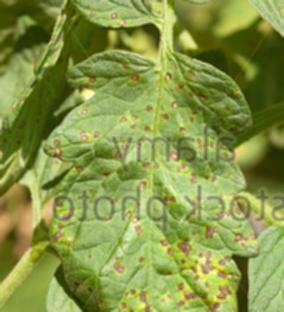Tomato Septoria leaf spot: (30, 47, 257, 312)
